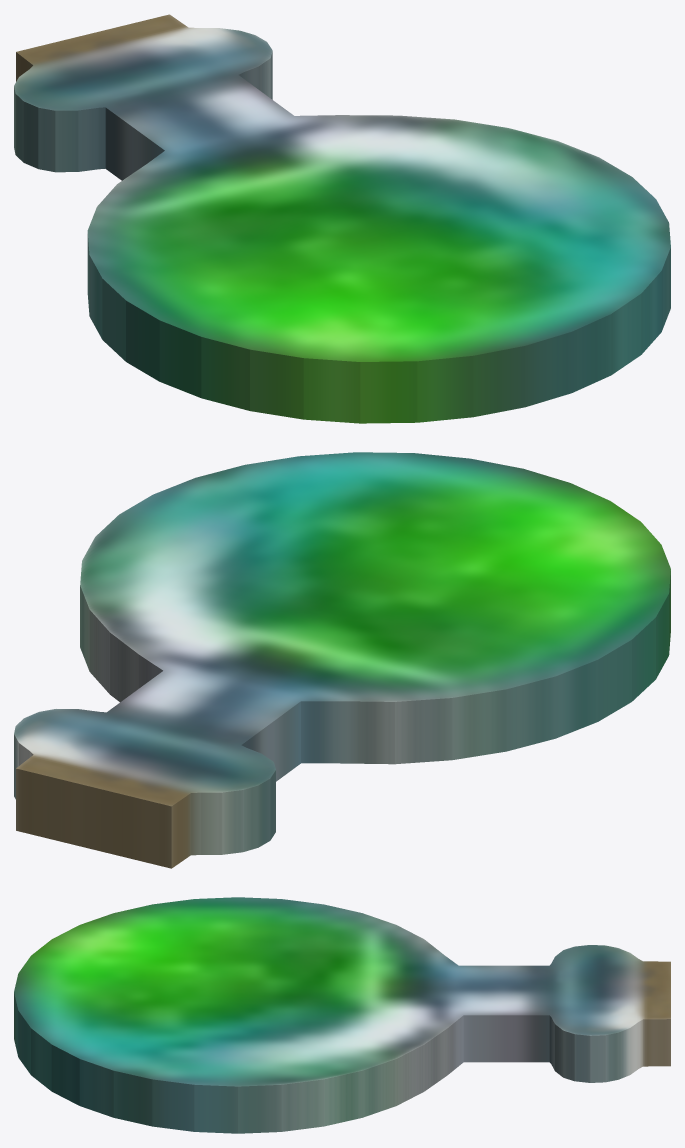
The model's file is Poisonous.glb.
The picture shows the model from 3 angles, top to bottom: view 1: azimuth 30°, elevation 25°; view 2: azimuth 150°, elevation 25°; view 3: azimuth 270°, elevation 25°; orthographic projection. The views are drawn at different scales.
Visible parts, largest first — view 1: Poisonous; view 2: Poisonous; view 3: Poisonous.
Boxes of the visible parts, bbox=[...] form: Poisonous: bbox=[14, 14, 670, 423]; Poisonous: bbox=[14, 452, 670, 868]; Poisonous: bbox=[14, 897, 670, 1133].
Size of the model in its own units: 0.4308 by 0.05 by 0.6316.
Materials: 1 (1 with a texture image).
